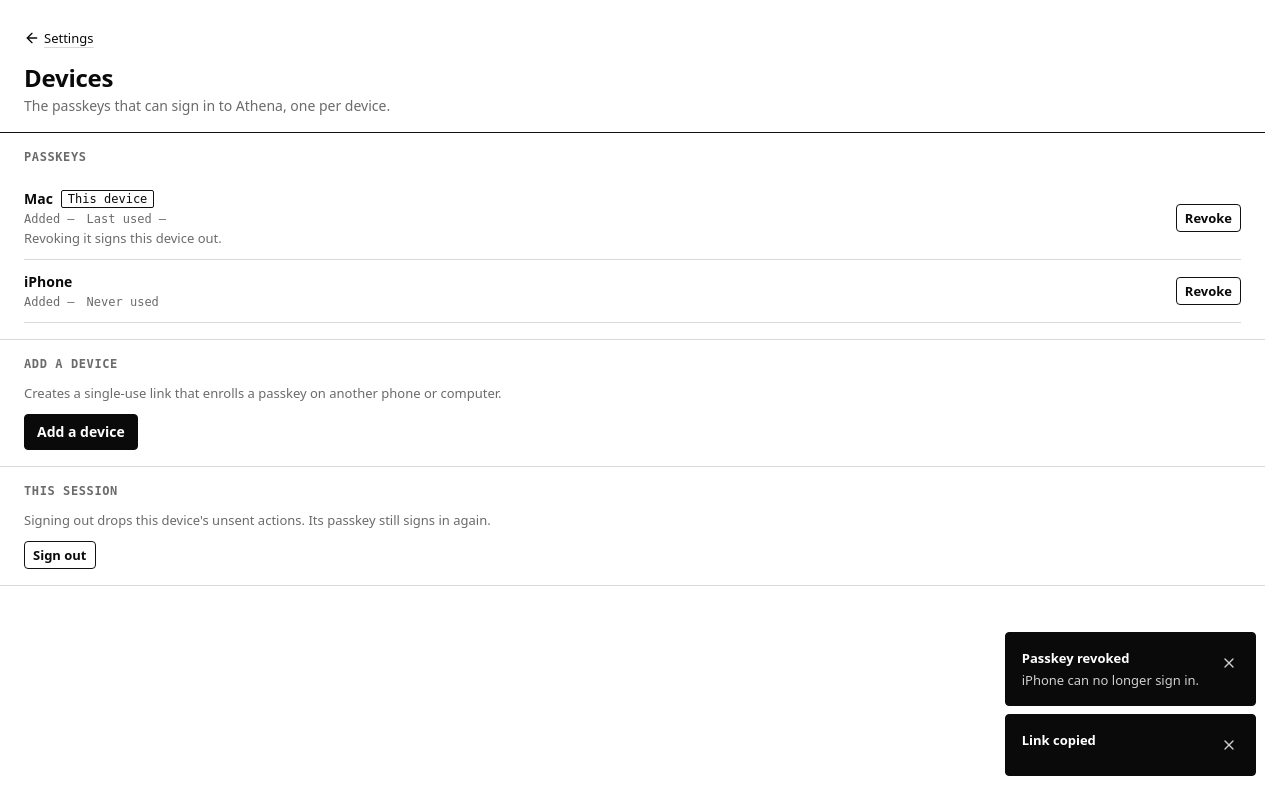
Test case: a refused step-up leaves no link and says why
Click the button "Add a device": (81, 432) [24,414,138,450]
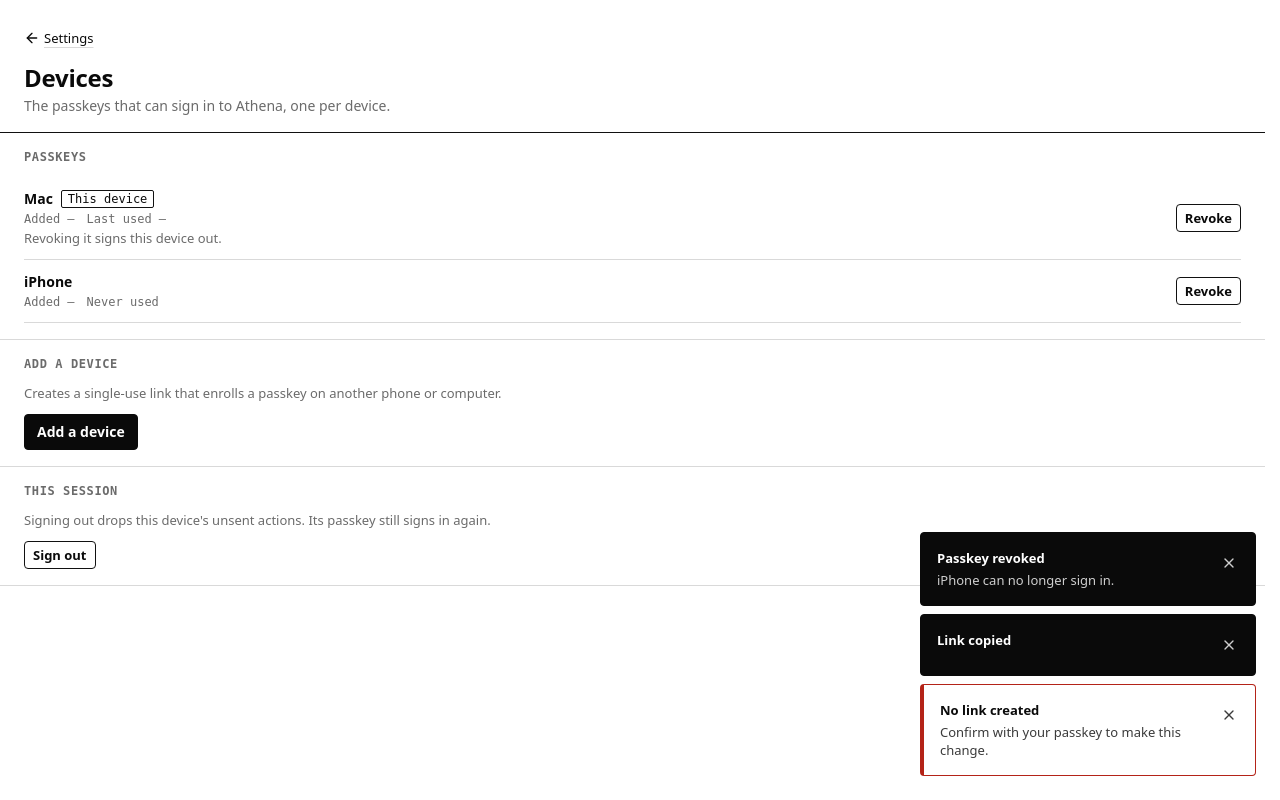
expect the text "Confirm with your passkey to make this change." is shown: met, box [940,723,1199,759]
